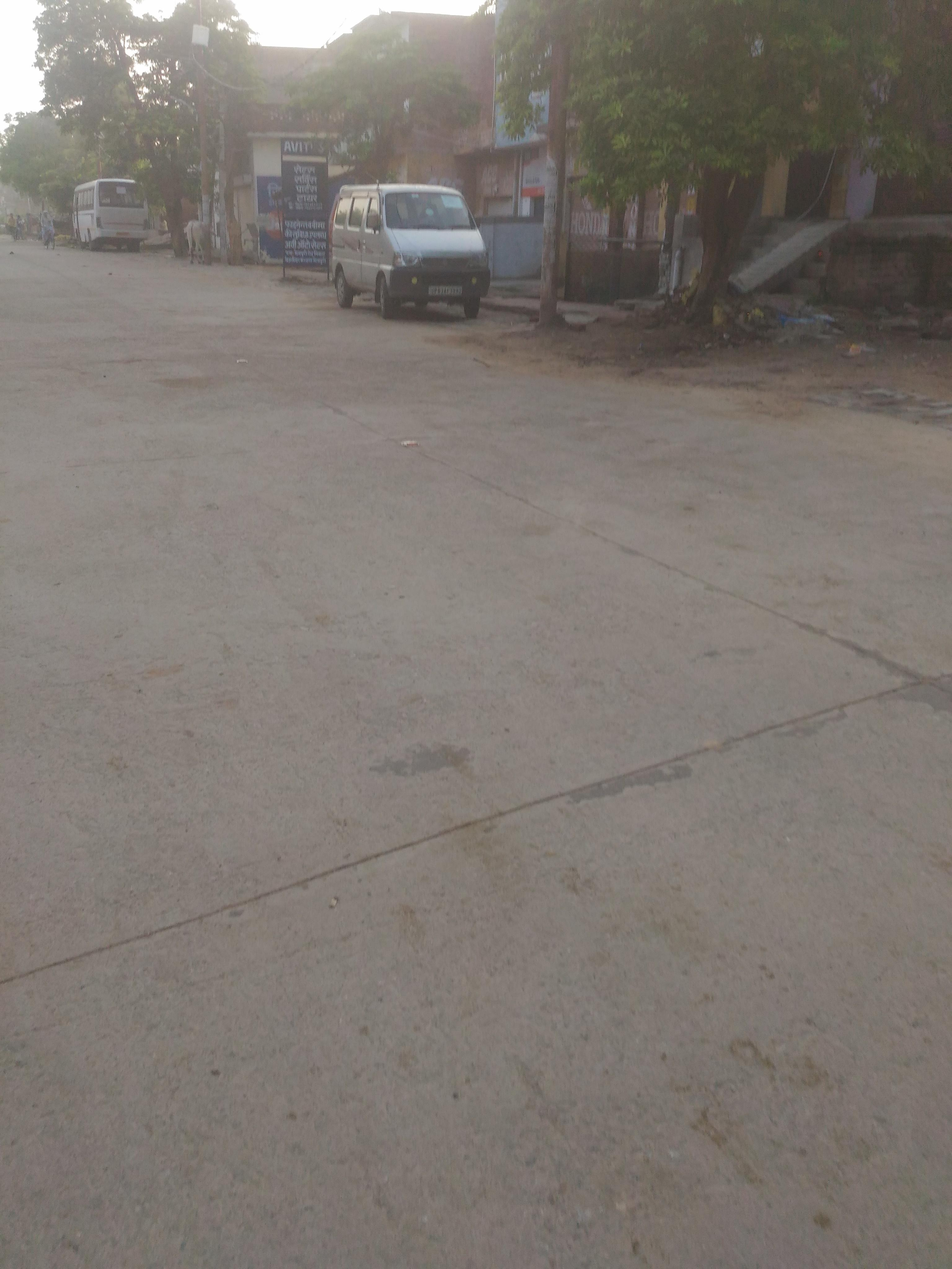Non-emergency: (286, 114, 548, 362)
